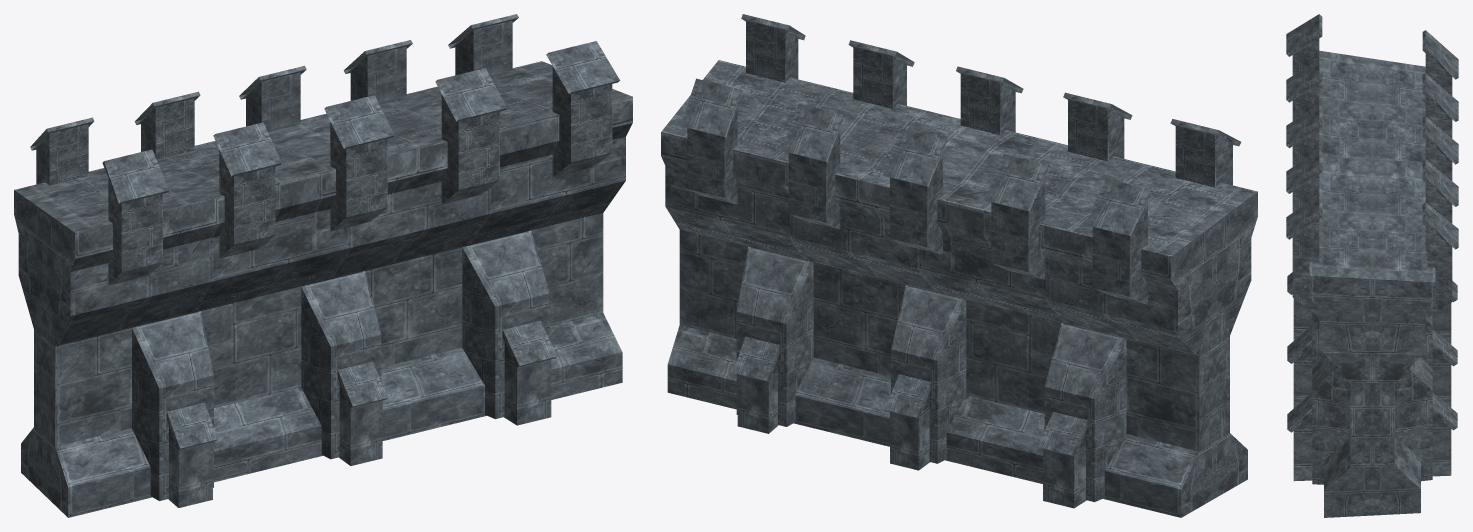
File: WallDeformed.fbx
3 views of the same model, side by side, from view 1: azimuth 30°, elevation 25°; view 2: azimuth 150°, elevation 25°; view 3: azimuth 270°, elevation 25° (orthographic). The views are drawn at different scales.
Visible parts, largest first — view 1: Wall; view 2: Wall; view 3: Wall.
Part boxes in pixels (x1,y1,x2,y2): Wall: [14, 14, 632, 517]; Wall: [661, 14, 1257, 517]; Wall: [1286, 14, 1458, 517].
Bounding box in the file's own units: 871 × 524 × 281.
